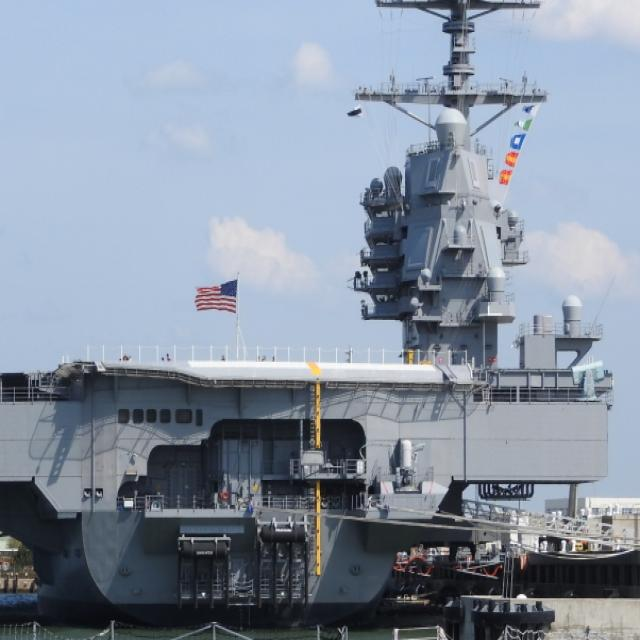Portanaves: (1, 1, 633, 628)
